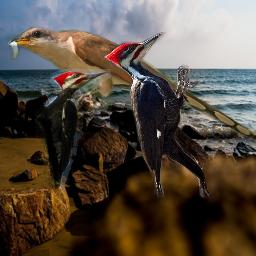Cuckoo: (3, 26, 256, 138)
Woodpecker: (103, 32, 211, 198), (35, 69, 111, 189)
